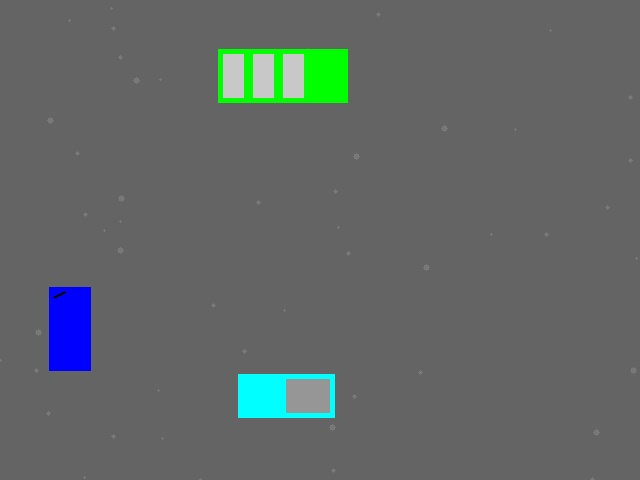bus: (218, 49, 347, 102)
motorcycle: (49, 287, 90, 370)
truck: (238, 374, 334, 417)
